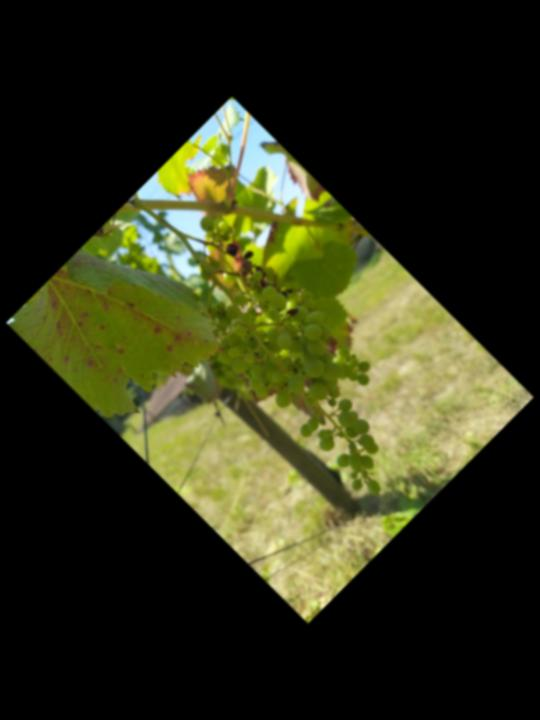grape: (190, 256, 444, 510)
